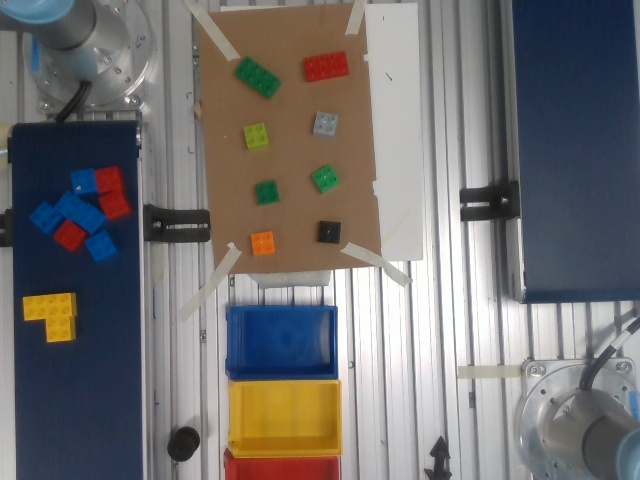ignore: (233, 51, 283, 101), (303, 45, 350, 86), (308, 159, 342, 197), (252, 173, 282, 210), (314, 217, 345, 248), (242, 116, 268, 152), (307, 113, 339, 136), (251, 227, 274, 258)
